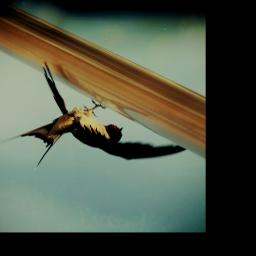Swallow: (0, 62, 189, 170)
